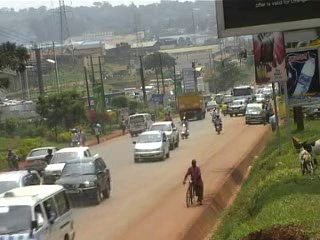Car: (53, 152, 115, 204), (0, 166, 45, 206), (131, 128, 173, 166), (21, 146, 64, 173), (148, 120, 180, 149), (226, 97, 252, 120), (203, 97, 219, 113)
Motorcycle: (178, 114, 191, 141), (212, 112, 223, 134), (210, 104, 221, 122), (220, 99, 229, 116)
